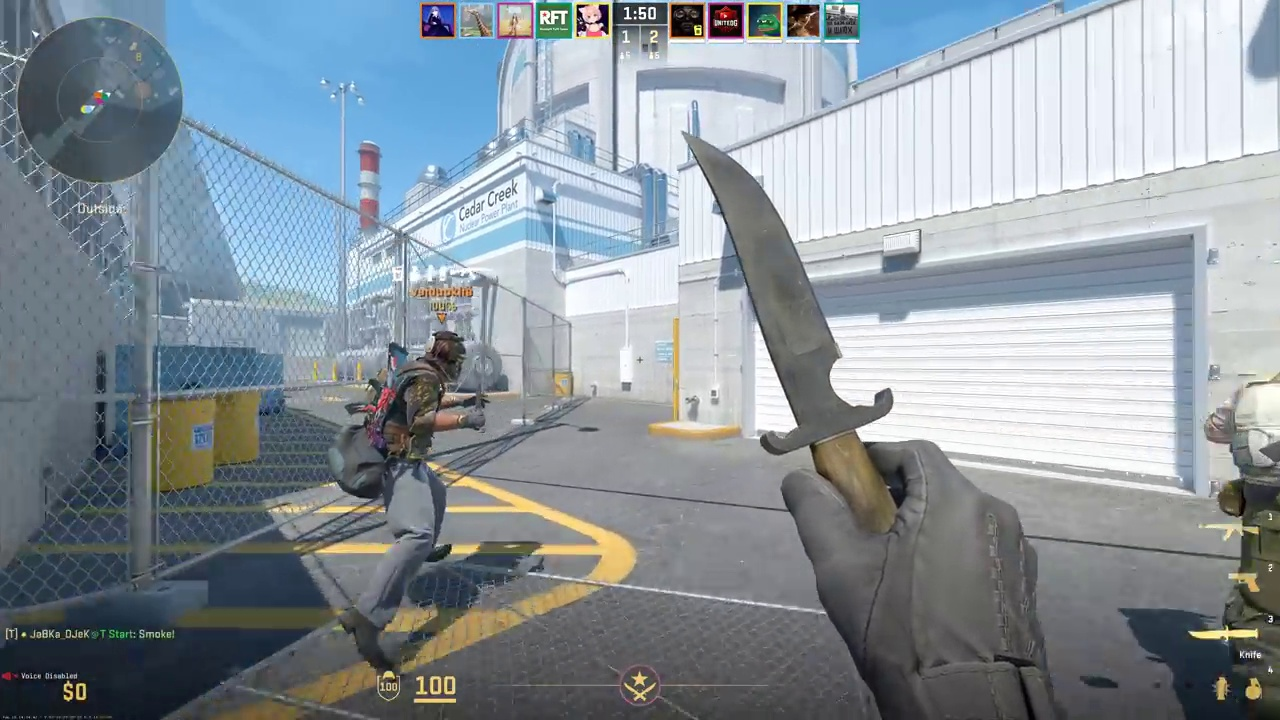Terrorist: (346, 330, 479, 664), (1208, 361, 1280, 715)
